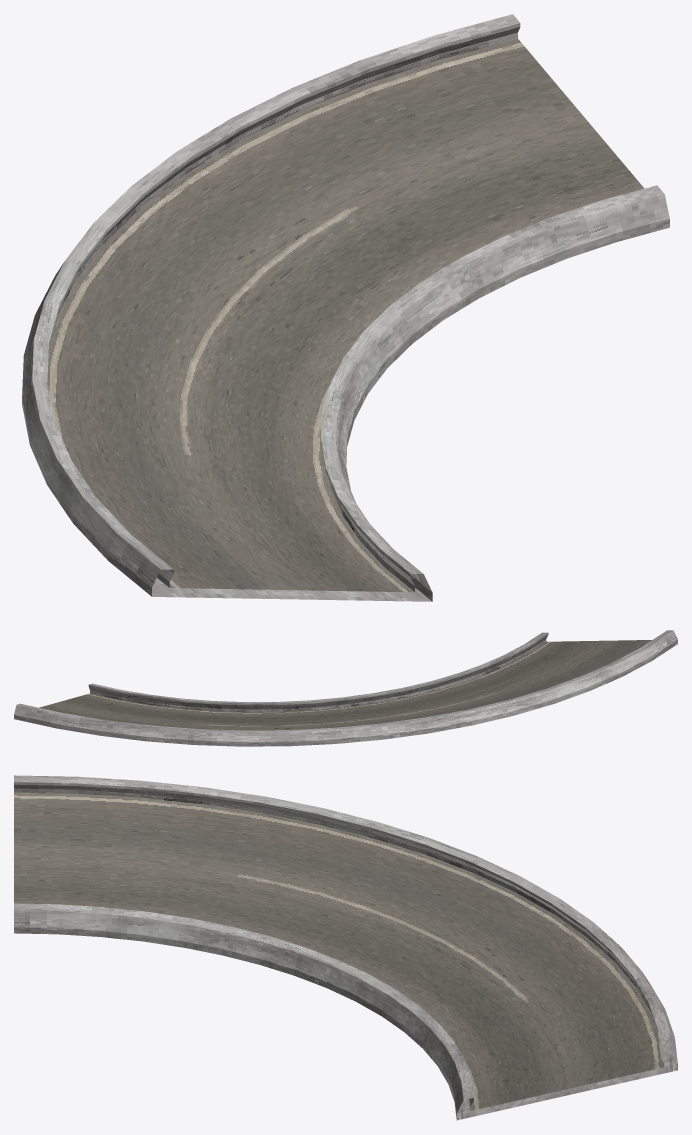
Rendered from road-Turn-HalfBankedRight-HalfBankedRight-Even-Right-Size3.glb.
3 renders of one model, top to bottom at view 1: azimuth 30°, elevation 25°; view 2: azimuth 150°, elevation 25°; view 3: azimuth 270°, elevation 25°, orthographic. The views are drawn at different scales.
Visible parts, largest first — view 1: road-Turn-HalfBankedRight-HalfBankedRight-Even-Right-Size3; view 2: road-Turn-HalfBankedRight-HalfBankedRight-Even-Right-Size3; view 3: road-Turn-HalfBankedRight-HalfBankedRight-Even-Right-Size3.
Boxes of the visible parts, <box> form: road-Turn-HalfBankedRight-HalfBankedRight-Even-Right-Size3: <box>22,14,669,601</box>; road-Turn-HalfBankedRight-HalfBankedRight-Even-Right-Size3: <box>14,630,677,746</box>; road-Turn-HalfBankedRight-HalfBankedRight-Even-Right-Size3: <box>14,775,677,1120</box>.
Size of the model in its own units: 3 by 0.3359 by 3.
2 materials, 2 textured.
